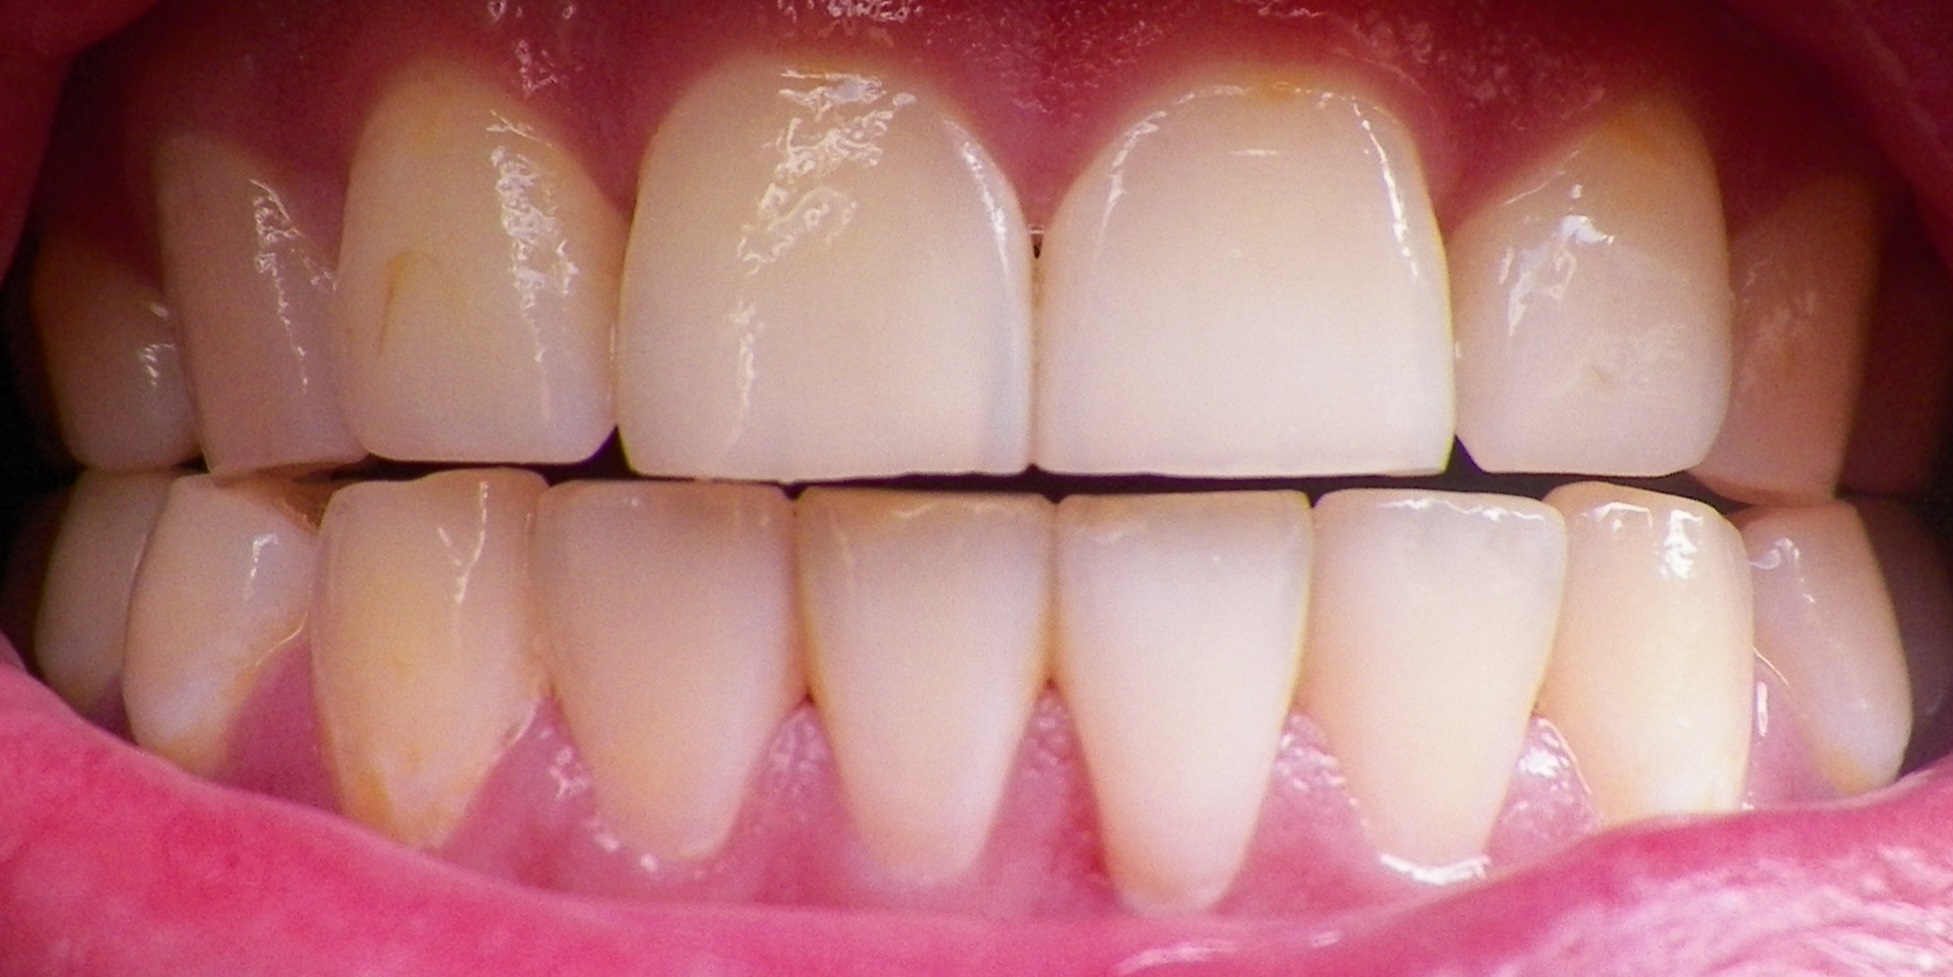boca: (24, 81, 1953, 898)
